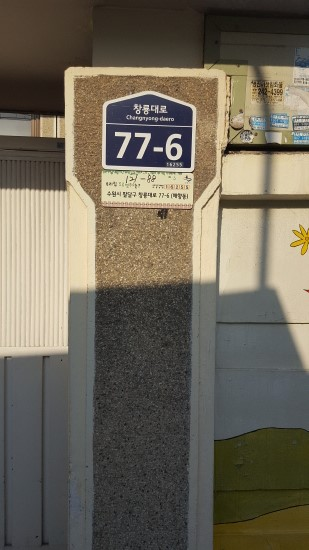building_license_plate1: (101, 91, 198, 171)
